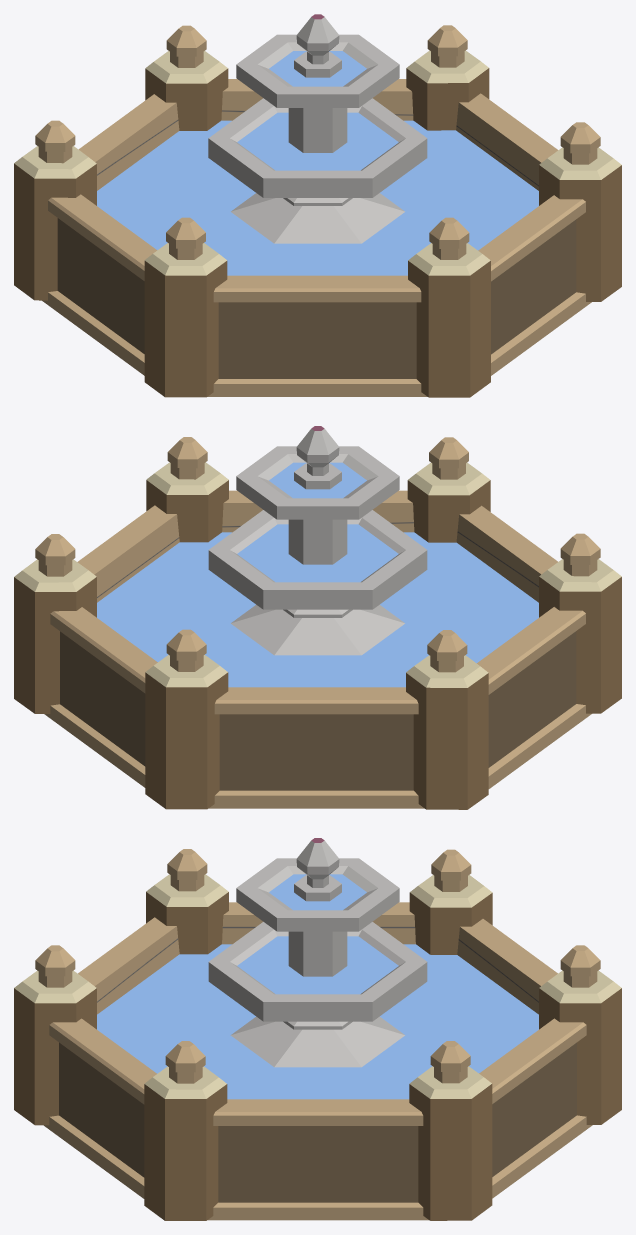
Rendered from Fountain_01.glb.
3 views of the same model, one above another, from view 1: azimuth 30°, elevation 25°; view 2: azimuth 150°, elevation 25°; view 3: azimuth 270°, elevation 25° (orthographic).
Visible parts, largest first — view 1: Fountain_01; view 2: Fountain_01; view 3: Fountain_01.
Part boxes in pixels (x1=…): Fountain_01: x1=14, y1=14, x2=621, y2=397; Fountain_01: x1=14, y1=426, x2=621, y2=809; Fountain_01: x1=14, y1=838, x2=621, y2=1220.
Size of what is drawn, in the model's own units: 3.18 by 1.83 by 3.67.
1 material, 1 textured.
